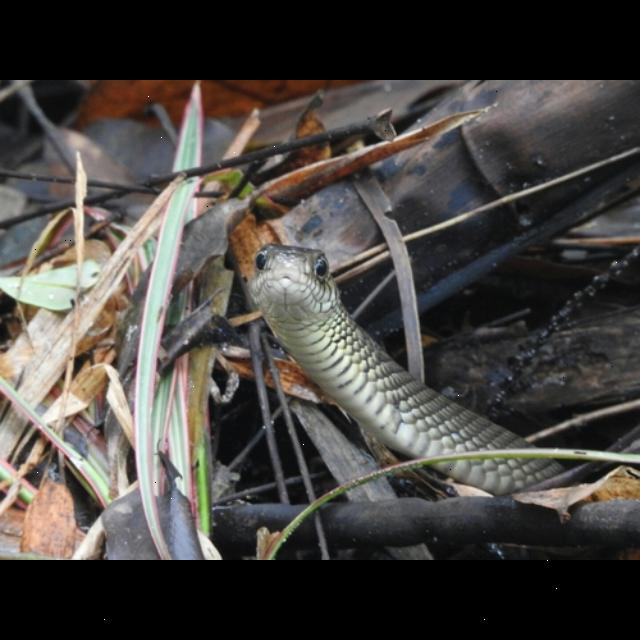snake: (242, 242, 574, 494)
